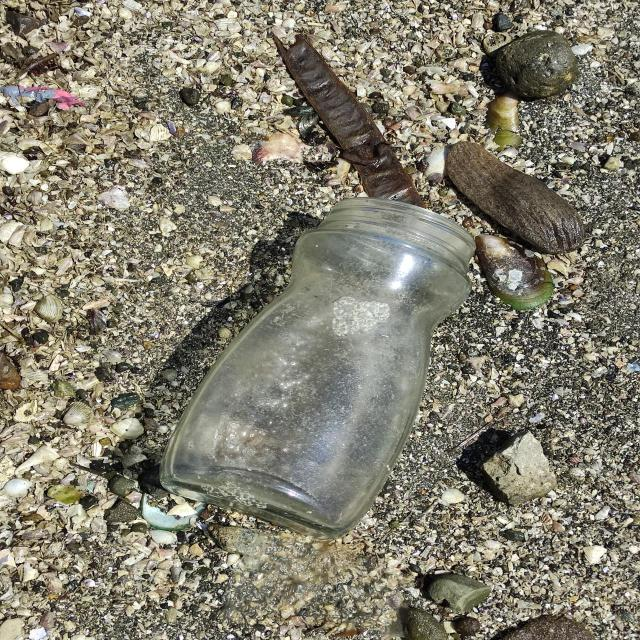plastic_waste: (157, 199, 480, 537)
